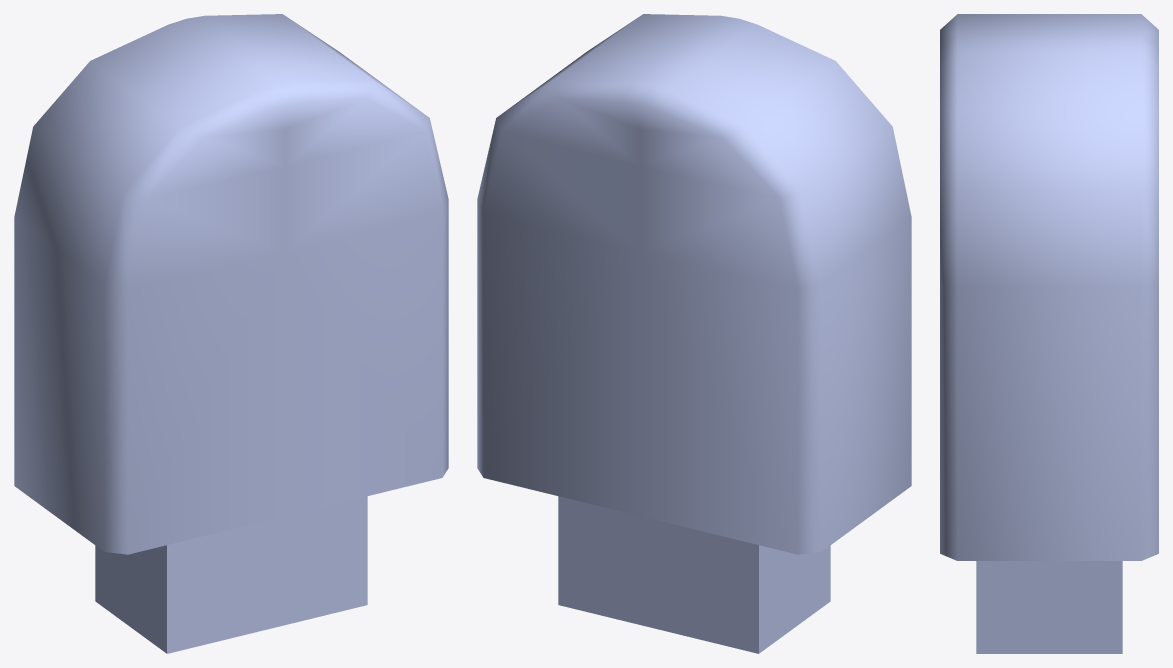
Rendered from ice_cream.glb.
3 renders of one model, left to right at view 1: azimuth 30°, elevation 25°; view 2: azimuth 150°, elevation 25°; view 3: azimuth 270°, elevation 25°, orthographic.
Parts seen in each view (by area): view 1: ice_cream; view 2: ice_cream; view 3: ice_cream.
Part boxes in pixels (left/top/right/bottom): ice_cream: left=14, top=14, right=448, bottom=653; ice_cream: left=477, top=14, right=911, bottom=653; ice_cream: left=940, top=14, right=1158, bottom=653.
Bounding box in the file's own units: 0.8841 × 1.35 × 0.4782.
